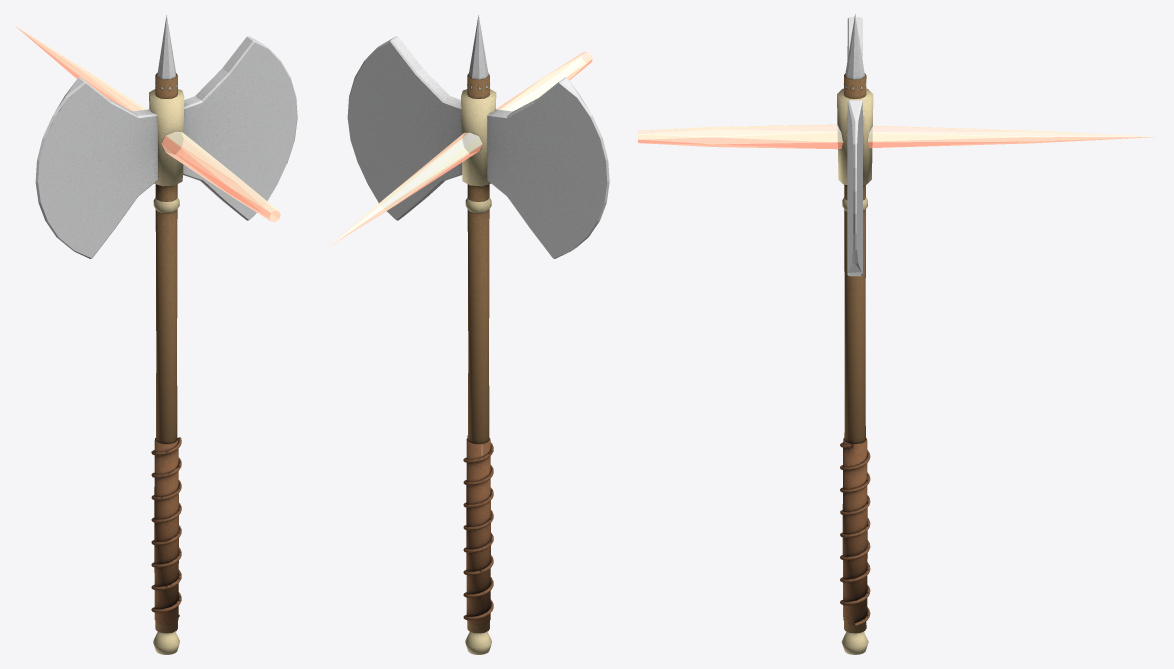
File: arma_machado_guerra_excelente.glb
3 renders of one model, left to right at view 1: azimuth 30°, elevation 25°; view 2: azimuth 150°, elevation 25°; view 3: azimuth 270°, elevation 25°, orthographic.
Parts seen in each view (by area): view 1: arma_machado_guerra_excelente, gema_mach; view 2: arma_machado_guerra_excelente, gema_mach; view 3: arma_machado_guerra_excelente, gema_mach.
Boxes of the visible parts, box(x1,y1,x2,y2) form: arma_machado_guerra_excelente: box(35, 15, 297, 654); gema_mach: box(15, 26, 280, 221); arma_machado_guerra_excelente: box(347, 15, 609, 654); gema_mach: box(327, 51, 592, 247); arma_machado_guerra_excelente: box(837, 14, 873, 654); gema_mach: box(638, 124, 1157, 149).
Bounding box in the file's own units: 0.5801 × 1.35 × 1.
Materials: 2 (1 with a texture image).
